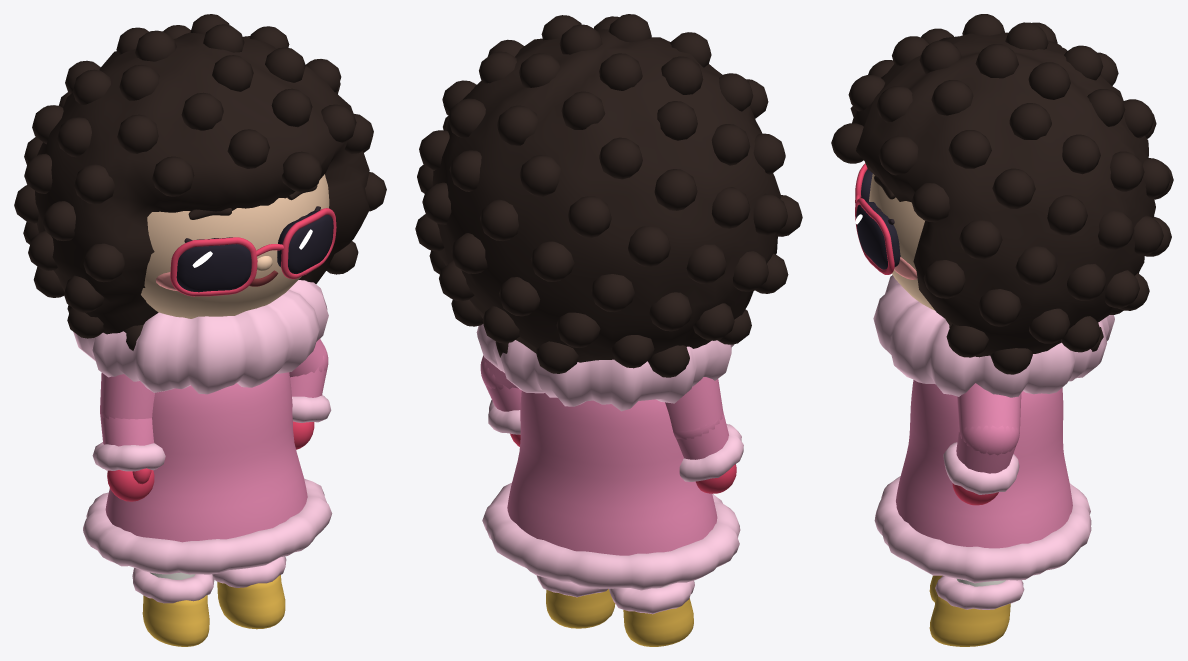
The model's file is npc_fashion.glb.
3 views of the same model, side by side, from view 1: azimuth 30°, elevation 25°; view 2: azimuth 150°, elevation 25°; view 3: azimuth 270°, elevation 25° (orthographic). The views are drawn at different scales.
Parts seen in each view (by area): view 1: head_body, spine_body, chest_body, head_shades, knee_R_body, knee_L_body, el_R_body, uarm_R, el_L_body, hand_R_body, uarm_L; view 2: head_body, spine_body, chest_body, knee_R_body, el_R_body, knee_L_body, uarm_R, el_L_body, hand_R_body; view 3: head_body, spine_body, chest_body, knee_L_body, el_L_body, uarm_L, head_shades, hand_L_body.
Part boxes in pixels (<box>): head_body: <box>14,14,386,350</box>; spine_body: <box>83,372,332,574</box>; chest_body: <box>73,280,328,394</box>; head_shades: <box>170,208,336,296</box>; knee_R_body: <box>132,568,214,646</box>; knee_L_body: <box>212,556,286,629</box>; el_R_body: <box>92,410,165,471</box>; uarm_R: <box>100,373,154,419</box>; el_L_body: <box>290,345,331,422</box>; hand_R_body: <box>107,468,154,501</box>; uarm_L: <box>289,339,327,377</box>; head_body: <box>415,14,802,377</box>; spine_body: <box>482,390,740,590</box>; chest_body: <box>476,324,734,411</box>; knee_R_body: <box>609,580,694,646</box>; el_R_body: <box>673,412,743,481</box>; knee_L_body: <box>536,575,615,628</box>; uarm_R: <box>665,377,723,439</box>; el_L_body: <box>480,355,521,434</box>; hand_R_body: <box>696,464,736,493</box>; head_body: <box>831,14,1173,374</box>; spine_body: <box>874,380,1091,583</box>; chest_body: <box>873,275,1114,397</box>; knee_L_body: <box>929,576,1024,646</box>; el_L_body: <box>943,425,1019,494</box>; uarm_L: <box>957,383,1021,455</box>; head_shades: <box>855,163,900,274</box>; hand_L_body: <box>952,483,998,505</box>.
Size of what is drawn, in the model's own units: 0.8662 by 1.49 by 0.7878.
